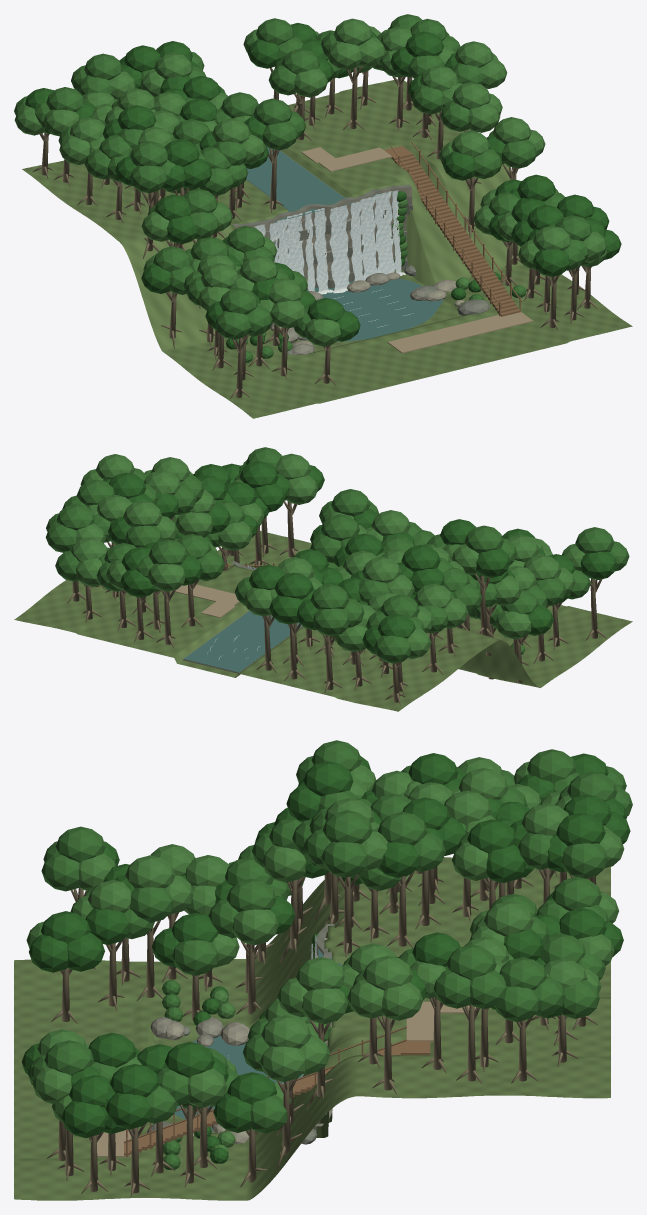
Rendered from phnom-kulen-ultra.glb.
3 views of the same model, one above another, from view 1: azimuth 30°, elevation 25°; view 2: azimuth 150°, elevation 25°; view 3: azimuth 270°, elevation 25° (orthographic). The views are drawn at different scales.
Parts seen in each view (by area): view 1: Green forest terrain, Forest canopy 1, Forest canopy 2, Forest canopy 0, Forest trunks, Falling water, River and pool, Forest stair timber, Dry bank path, Layered sandstone 0, Layered sandstone 2, Layered sandstone 1 (+1 smaller); view 2: Green forest terrain, Forest canopy 2, Forest canopy 1, Forest canopy 0, Forest trunks, River and pool, Dry bank path; view 3: Green forest terrain, Forest canopy 1, Forest canopy 2, Forest canopy 0, Forest trunks, Forest stair timber, Dry bank path, Layered sandstone 2, River and pool, Layered sandstone 1.
Part boxes in pixels (bbox=[...]): Green forest terrain: bbox=[22, 79, 632, 418]; Forest canopy 1: bbox=[14, 14, 592, 362]; Forest canopy 2: bbox=[14, 18, 607, 346]; Forest canopy 0: bbox=[25, 23, 621, 349]; Forest trunks: bbox=[32, 66, 597, 398]; Falling water: bbox=[254, 190, 401, 291]; River and pool: bbox=[246, 147, 443, 341]; Forest stair timber: bbox=[384, 141, 521, 316]; Dry bank path: bbox=[301, 147, 533, 353]; Layered sandstone 0: bbox=[232, 184, 490, 354]; Layered sandstone 2: bbox=[235, 187, 464, 346]; Layered sandstone 1: bbox=[264, 196, 426, 354]; Green forest terrain: bbox=[14, 530, 632, 711]; Forest canopy 2: bbox=[71, 453, 584, 658]; Forest canopy 1: bbox=[45, 447, 629, 663]; Forest canopy 0: bbox=[70, 461, 617, 654]; Forest trunks: bbox=[67, 501, 606, 705]; River and pool: bbox=[184, 611, 302, 672]; Dry bank path: bbox=[172, 584, 239, 617]; Green forest terrain: bbox=[14, 857, 610, 1200]; Forest canopy 1: bbox=[27, 740, 632, 1169]; Forest canopy 2: bbox=[26, 757, 624, 1154]; Forest canopy 0: bbox=[21, 753, 630, 1163]; Forest trunks: bbox=[46, 866, 597, 1197]; Forest stair timber: bbox=[124, 1026, 430, 1157]; Dry bank path: bbox=[97, 1001, 475, 1156]; Layered sandstone 2: bbox=[165, 933, 331, 1143]; River and pool: bbox=[174, 948, 342, 1131]; Layered sandstone 1: bbox=[150, 1017, 332, 1126].
Bounding box in the file's own units: 39.28 × 17.6 × 39.41.
